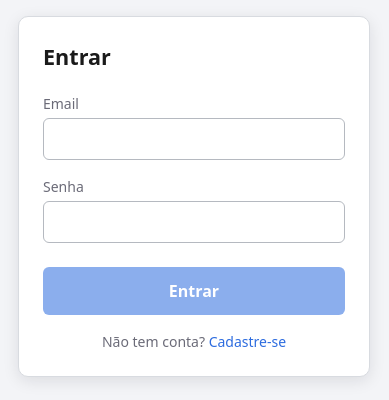
it: LoginView › disables the submit button while the request is in flight
Type "alice@example.com" into the field with test id "email" at (194, 139), box [43, 118, 345, 160]
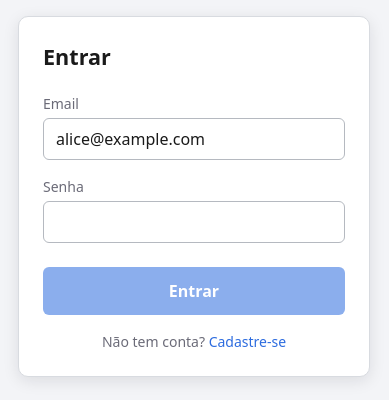
Type "Password123" into the password field with test id "password" at (194, 222), box [43, 201, 345, 243]
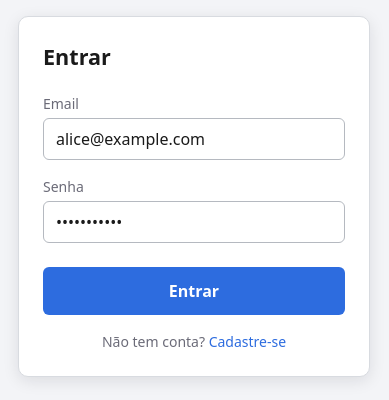
Submit the form, box [43, 93, 345, 352]
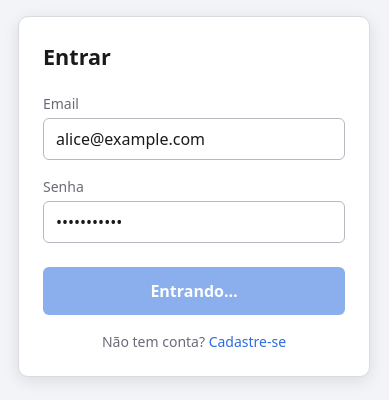
Expected: the button with test id "submit" is disabled, [43, 267, 345, 315]
